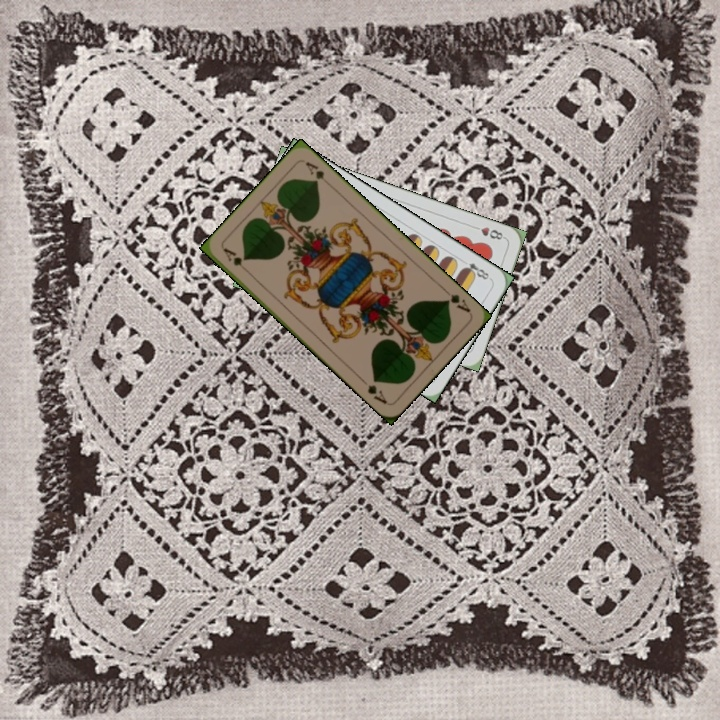E8: (458, 258, 494, 283)
GA: (439, 284, 473, 316), (219, 244, 252, 276)
H8: (468, 222, 508, 243)
